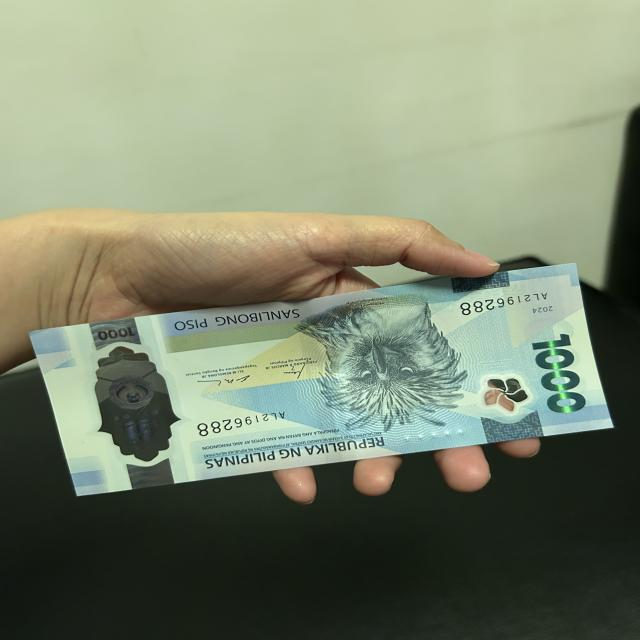clear_window: (87, 346, 179, 461)
eagle: (299, 310, 461, 430)
sampaguita: (481, 378, 534, 413)
